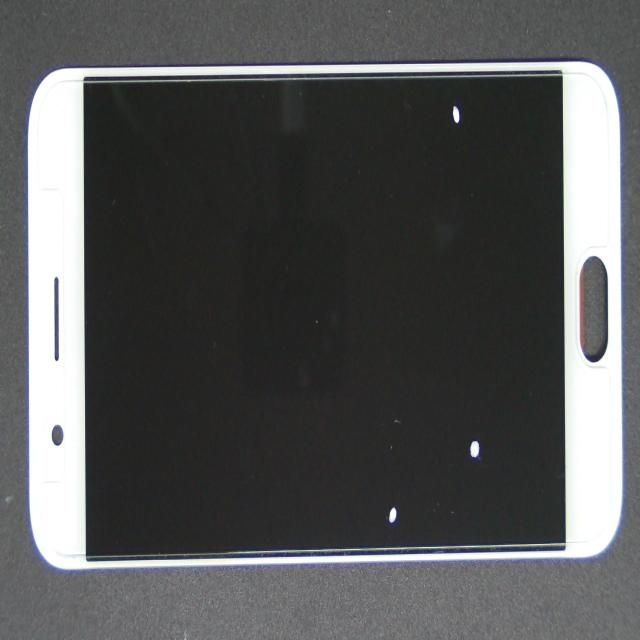stain: (259, 206, 640, 640), (211, 213, 574, 640), (234, 14, 640, 148)
